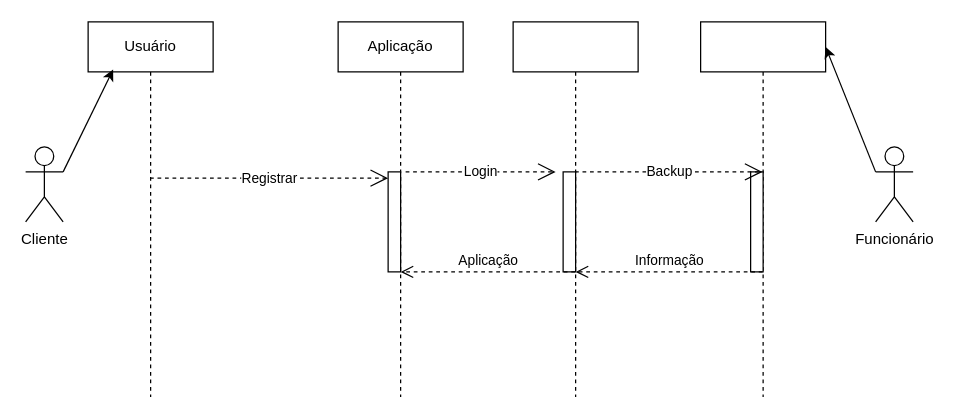
Some shapes in this 955 by 419 pixel diagram are drawn without their labels. The centre of each missing label's shape, as x and y in pixels:
Banco de dados: the point at 762,209
Servidor: the point at 575,209
